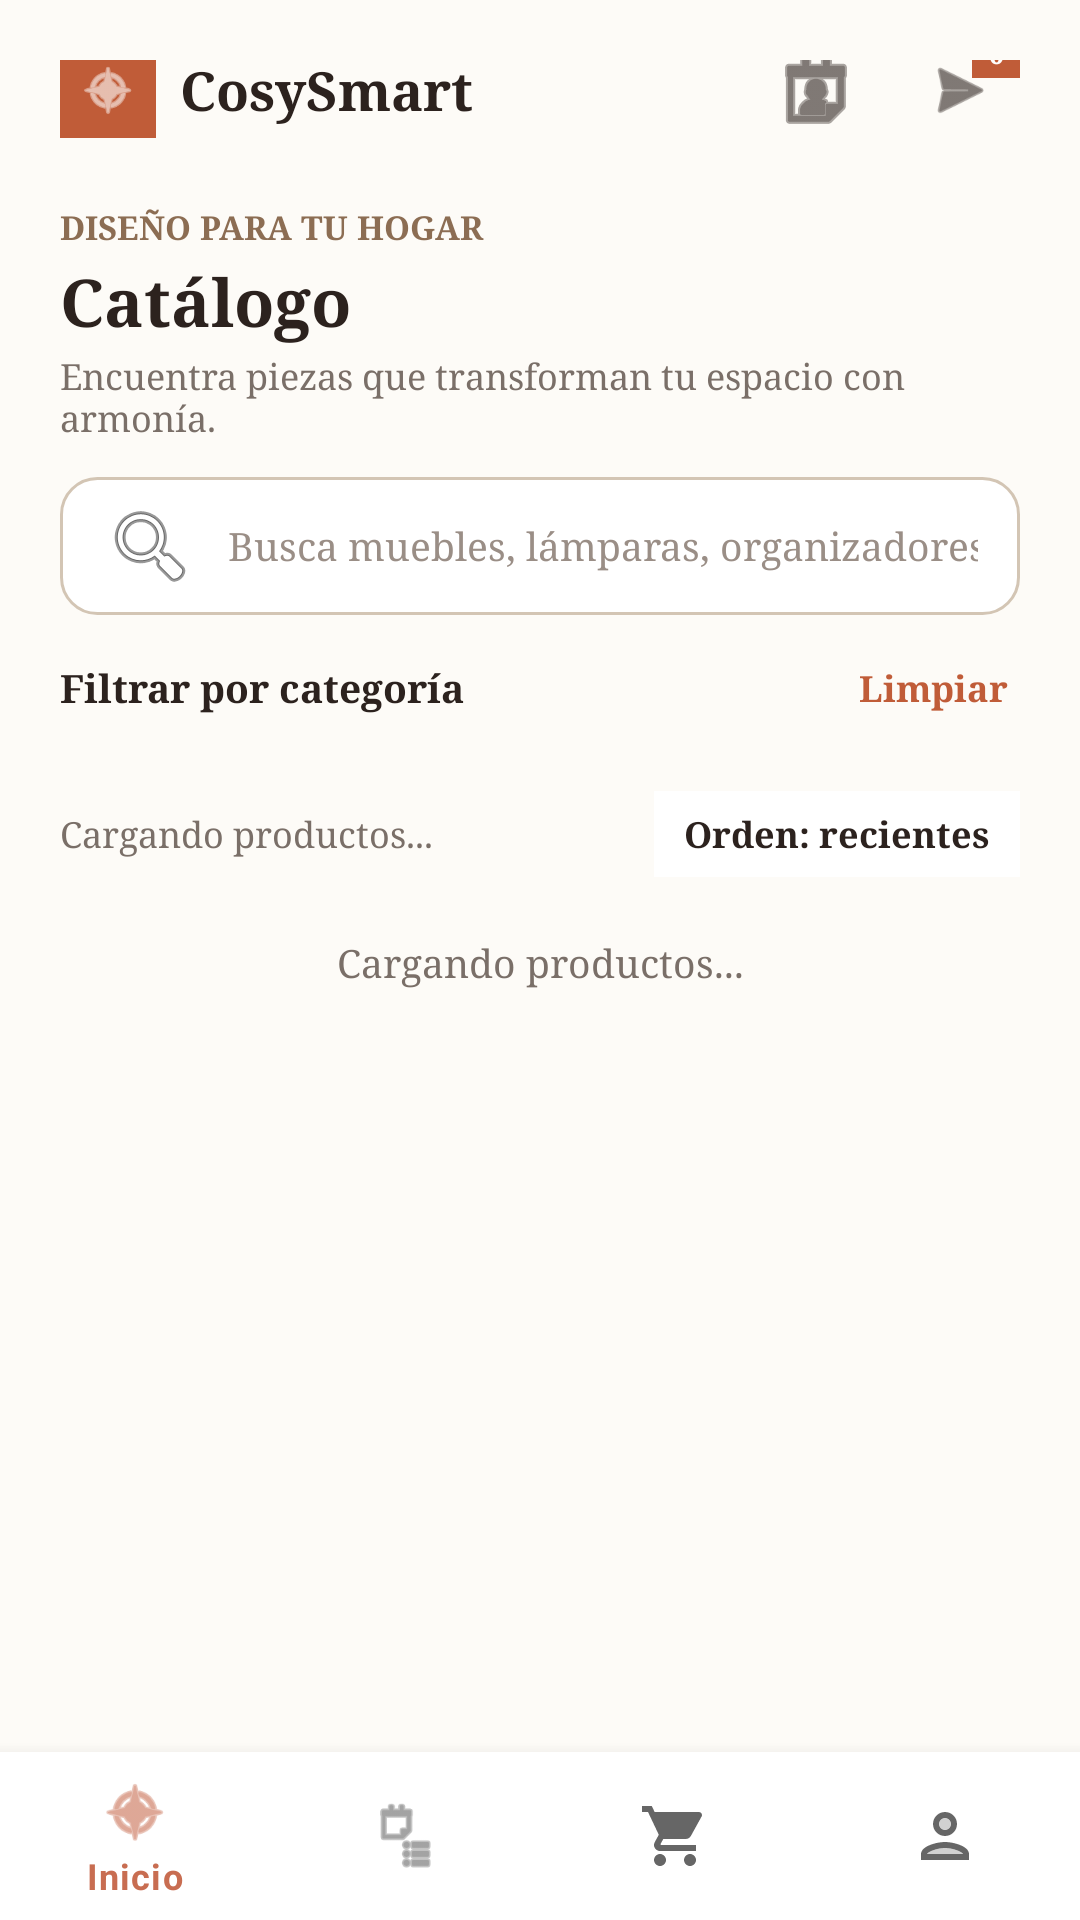

Where to tap for icons on this 1080 × 1920 app screen, as [x,y]:
compass: [108,99]
